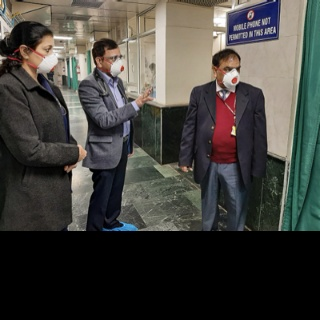with_mask: (31, 42, 58, 74), (217, 63, 241, 88), (103, 52, 124, 76)
